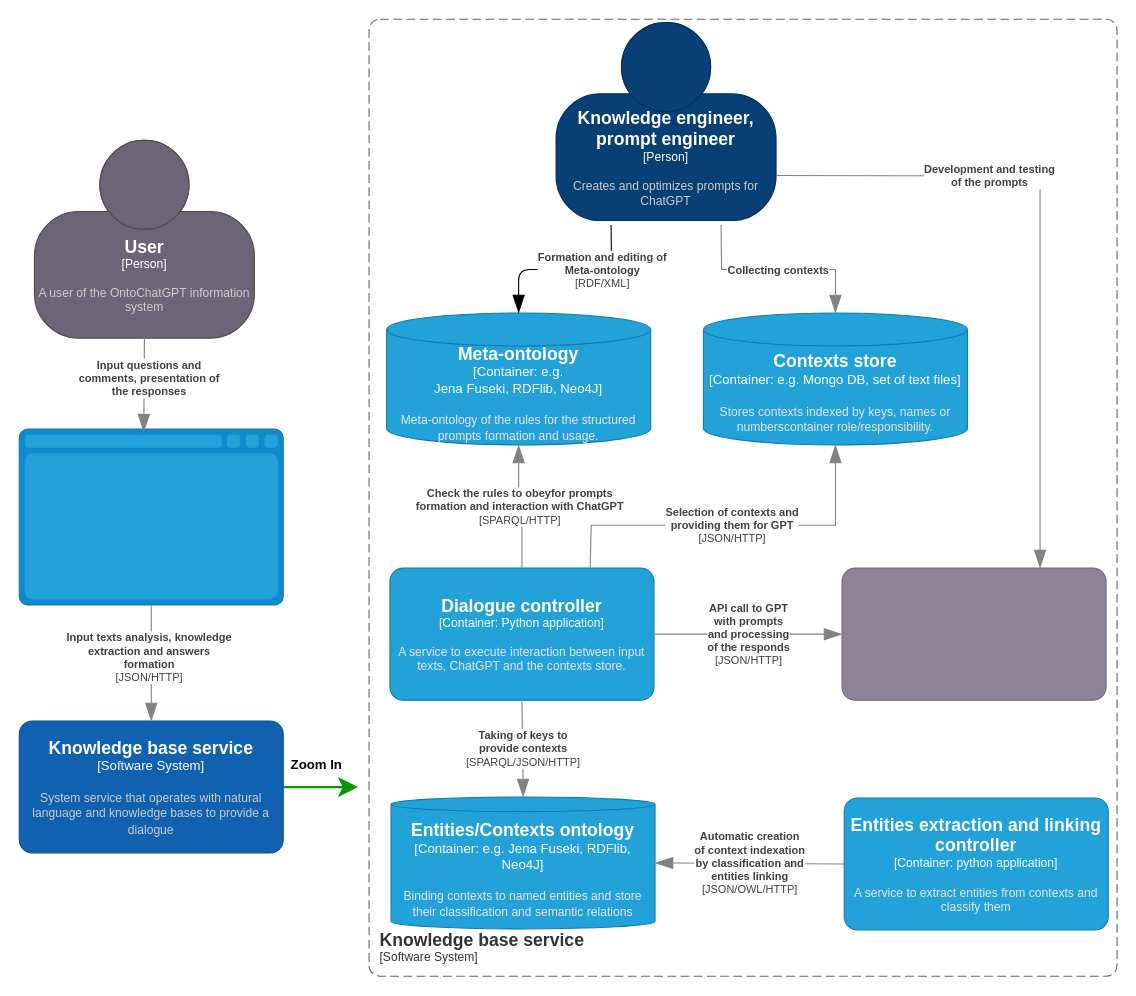
This 1136x996 diagram has some shape labels left out. The shapes that lost their labels are listed below. From the top down, each one's centre as x and y in pixels, then its label:
the point at 150,516: Interface [Container: JavaScript, Python, HTML] OntoChatGPT WebApp
the point at 973,633: ChatGPT [Software System] ChatGPT playground, ChatGPT Plus, OpenAI Chat API
